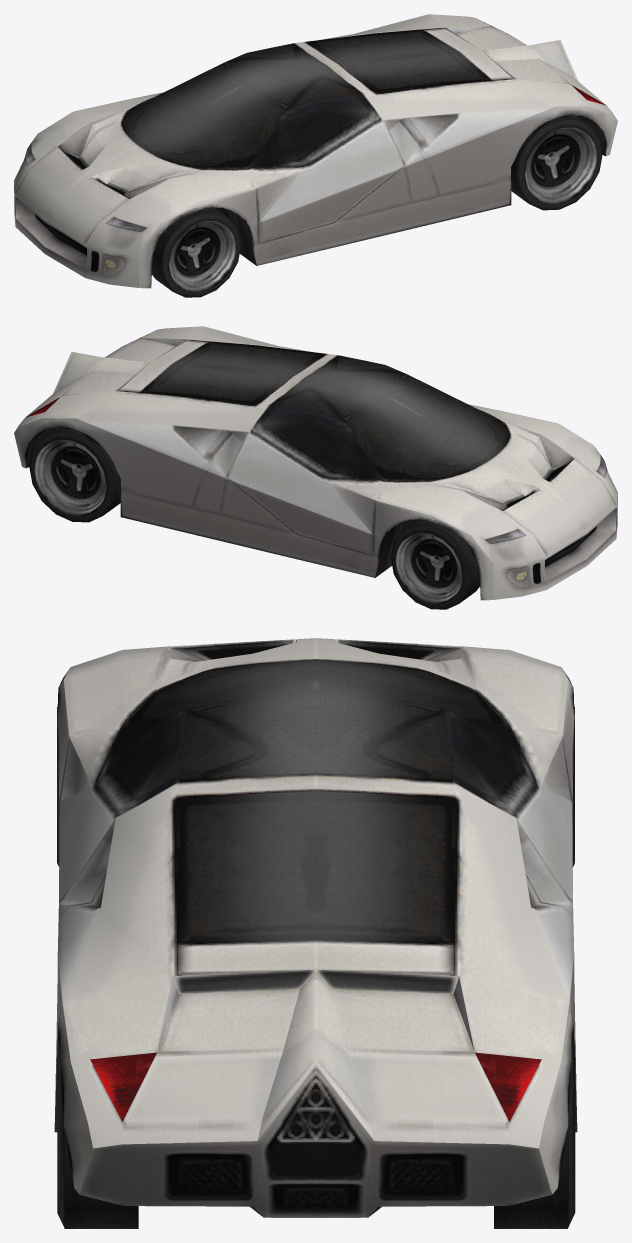
3 views of the same model, one above another, from view 1: azimuth 30°, elevation 25°; view 2: azimuth 150°, elevation 25°; view 3: azimuth 270°, elevation 25° (orthographic). The views are drawn at different scales.
Parts seen in each view (by area): view 1: Body, Wheel_FR, Wheel_RL, Headlights; view 2: Body, Wheel_FL, Wheel_RR, Headlights; view 3: Body, Stoplights, Wheel_FL, Wheel_FR.
Boxes of the visible parts, x1,y1,x2,y2 form: Body: [14, 14, 617, 288]; Wheel_FR: [511, 116, 602, 210]; Wheel_RL: [152, 208, 240, 297]; Headlights: [24, 143, 146, 232]; Body: [14, 326, 617, 600]; Wheel_FL: [29, 428, 120, 522]; Wheel_RR: [390, 520, 479, 609]; Headlights: [485, 455, 607, 544]; Body: [54, 638, 577, 1217]; Stoplights: [90, 1052, 541, 1121]; Wheel_FL: [494, 1039, 575, 1228]; Wheel_FR: [57, 1041, 138, 1228].
Bounding box in the file's own units: 175 × 75.98 × 46.4.
